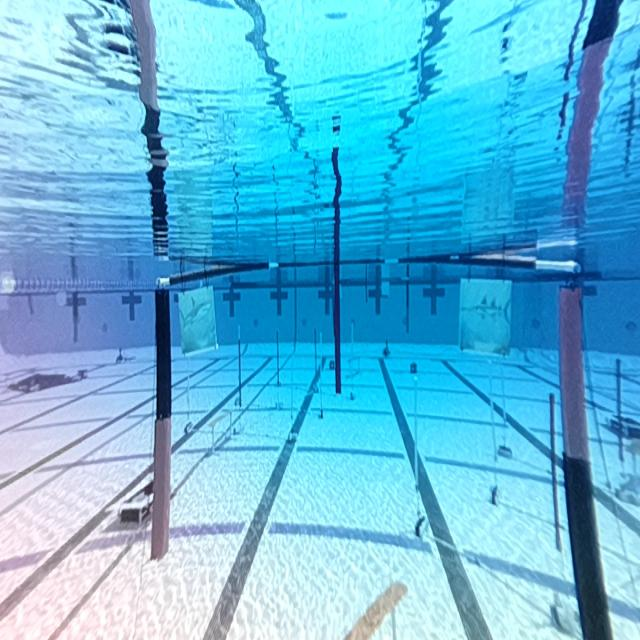pointed_nose: (460, 276, 511, 354)
round_nose: (178, 287, 216, 357)
